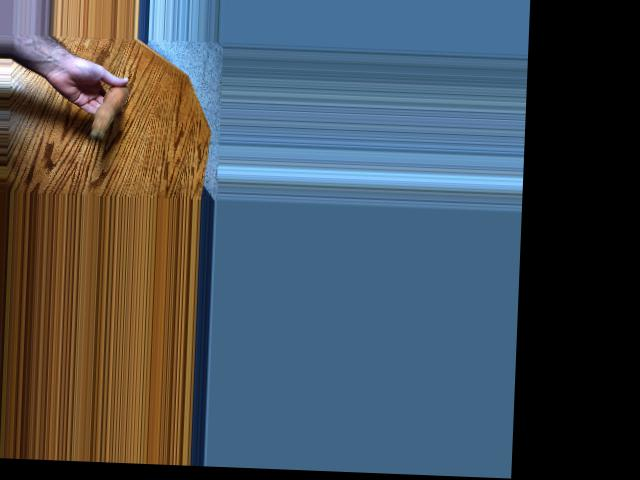sweet_potato: (87, 78, 129, 140)
